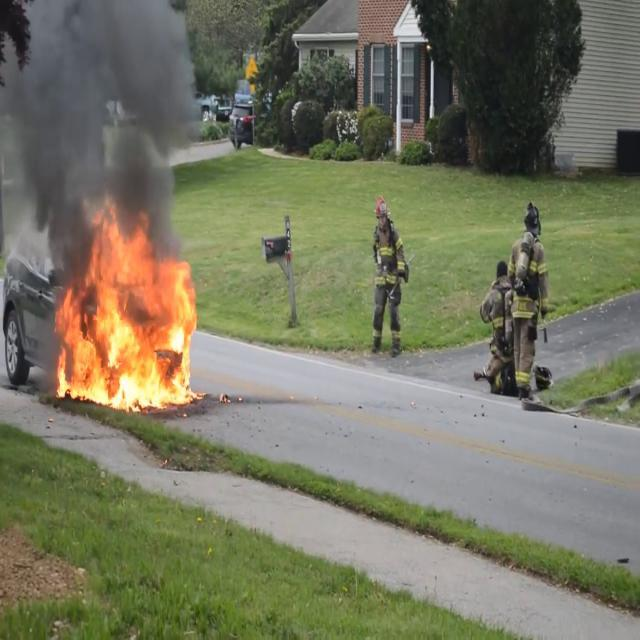Fire: (53, 215, 203, 413)
Smoke: (0, 0, 202, 257)
